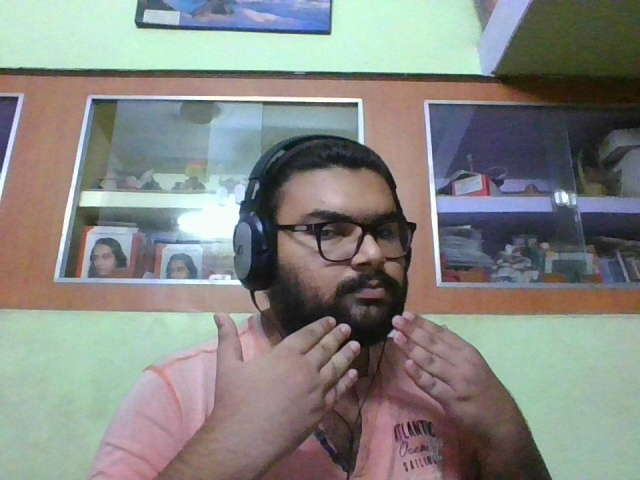thankyou: (211, 310, 528, 449)
